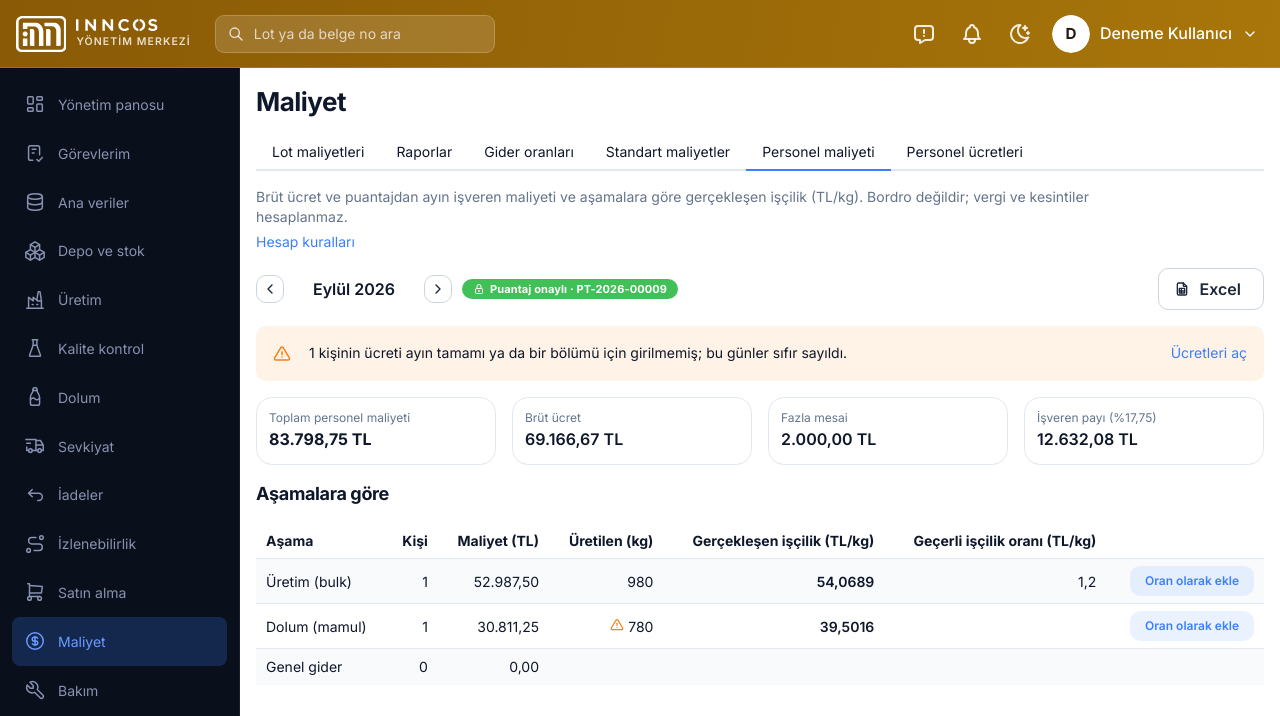
it: personel maliyeti › eksik ücret ve kg'a çevrilemeyen üretim oran penceresinde uyarılır
Click the button with aria-label "Oran olarak ekle: Dolum (mamul)".
click(1192, 626)  # box left=1130, top=611, right=1254, bottom=641
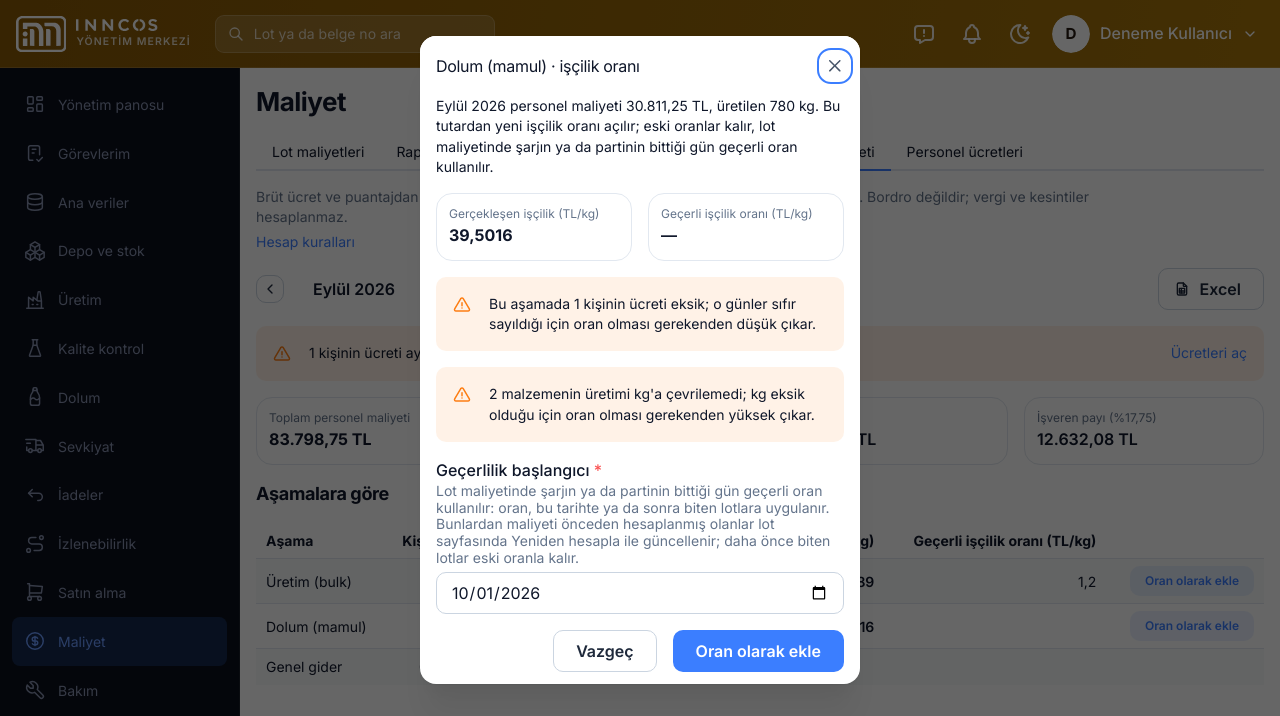
expect the text "Bu aşamada 1 kişinin ücreti eksik" is shown: met, box left=489, top=295, right=816, bottom=332
expect the text "2 malzemenin üretimi kg'a çevrilemedi" is shown: met, box left=489, top=385, right=815, bottom=423
